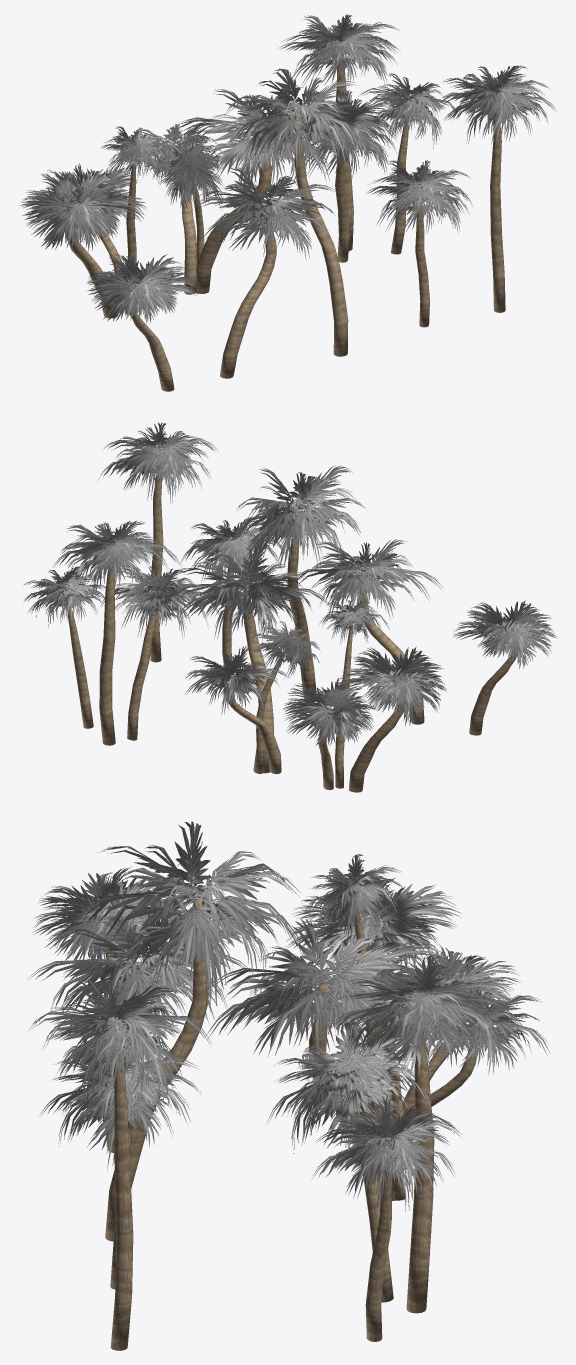
Rendered from Palms A.fbx.
3 renders of one model, top to bottom at view 1: azimuth 30°, elevation 25°; view 2: azimuth 150°, elevation 25°; view 3: azimuth 270°, elevation 25°, orthographic. The views are drawn at different scales.
Parts seen in each view (by area): view 1: Palm_Tree_Group_1A1, Palm_Tree_Group_1A2, Palm_Tree_Group_1A3, Palm_Tree_1A4, Palm_Tree_1A2, Palm_Tree_1A5, Palm_Tree_1A3, Palm_Tree_1A1; view 2: Palm_Tree_Group_1A1, Palm_Tree_Group_1A2, Palm_Tree_Group_1A3, Palm_Tree_1A4, Palm_Tree_1A2, Palm_Tree_1A5, Palm_Tree_1A3, Palm_Tree_1A1; view 3: Palm_Tree_Group_1A1, Palm_Tree_Group_1A2, Palm_Tree_1A4, Palm_Tree_1A5, Palm_Tree_Group_1A3, Palm_Tree_1A2, Palm_Tree_1A1, Palm_Tree_1A3.
Boxes of the visible parts, left/top/right/bottom form: Palm_Tree_Group_1A1: left=277, top=14, right=457, bottom=262; Palm_Tree_Group_1A2: left=137, top=85, right=353, bottom=294; Palm_Tree_Group_1A3: left=20, top=126, right=167, bottom=318; Palm_Tree_1A4: left=224, top=68, right=366, bottom=356; Palm_Tree_1A2: left=196, top=167, right=336, bottom=378; Palm_Tree_1A5: left=440, top=65, right=555, bottom=312; Palm_Tree_1A3: left=86, top=253, right=197, bottom=391; Palm_Tree_1A1: left=366, top=160, right=472, bottom=327; Palm_Tree_Group_1A1: left=23, top=520, right=219, bottom=745; Palm_Tree_Group_1A2: left=168, top=546, right=329, bottom=774; Palm_Tree_Group_1A3: left=283, top=600, right=446, bottom=792; Palm_Tree_1A4: left=233, top=465, right=367, bottom=701; Palm_Tree_1A2: left=289, top=539, right=442, bottom=724; Palm_Tree_1A5: left=98, top=422, right=218, bottom=662; Palm_Tree_1A3: left=453, top=600, right=557, bottom=735; Palm_Tree_1A1: left=179, top=518, right=288, bottom=673; Palm_Tree_Group_1A1: left=267, top=954, right=513, bottom=1341; Palm_Tree_Group_1A2: left=204, top=918, right=549, bottom=1200; Palm_Tree_1A4: left=73, top=821, right=305, bottom=1241; Palm_Tree_1A5: left=29, top=979, right=211, bottom=1350; Palm_Tree_Group_1A3: left=286, top=854, right=521, bottom=1117; Palm_Tree_1A2: left=27, top=899, right=251, bottom=1152; Palm_Tree_1A1: left=40, top=1037, right=201, bottom=1289; Palm_Tree_1A3: left=32, top=867, right=172, bottom=1054.
Size of the model in its own units: 2897 by 1490 by 1991.
